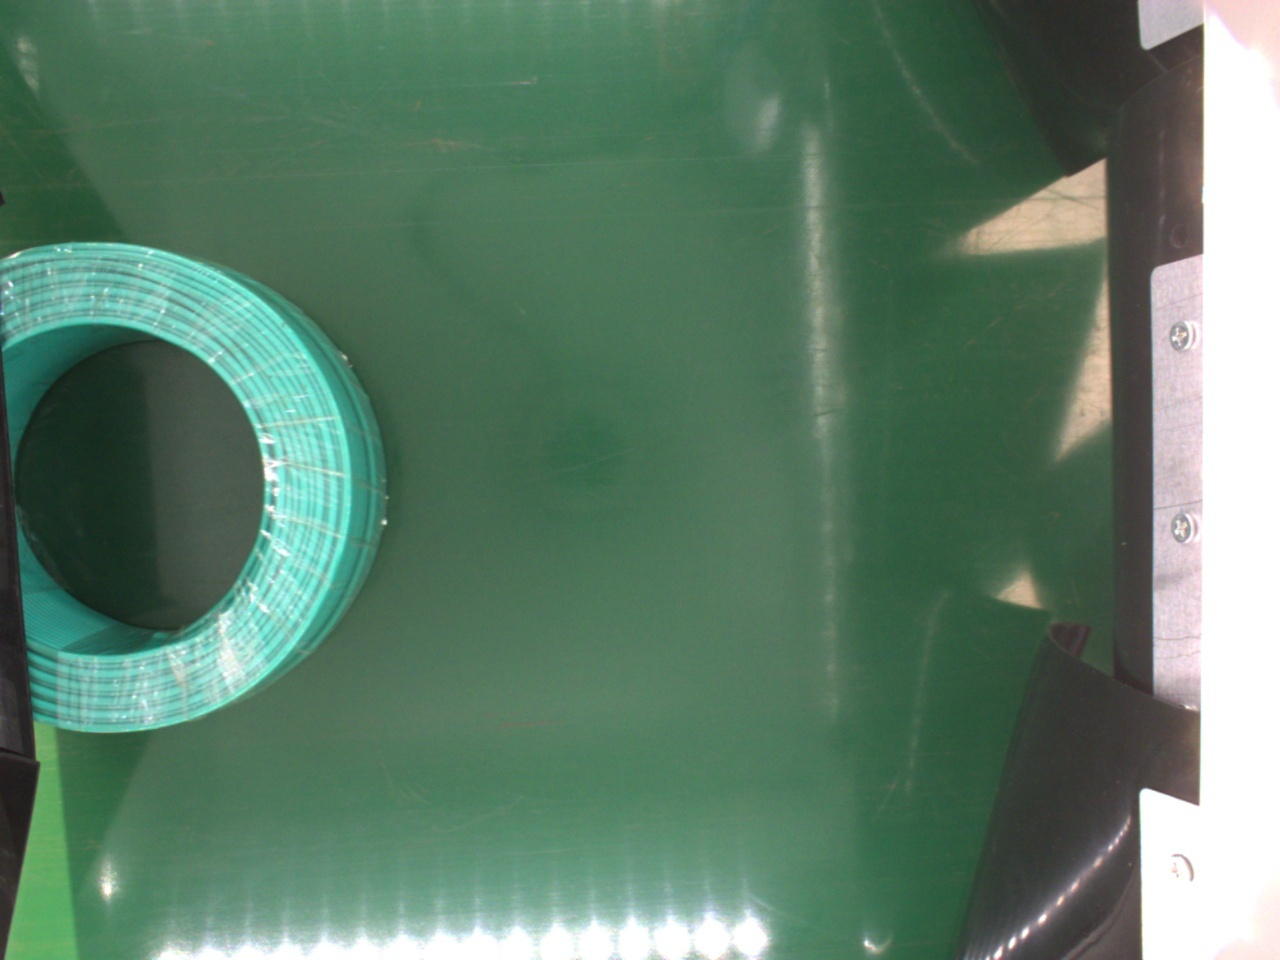green: (5, 240, 379, 736)
